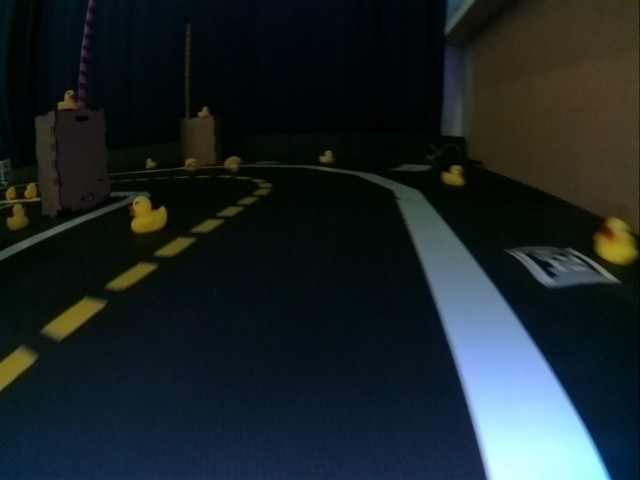Duckie: (595, 217, 634, 262), (130, 199, 167, 232), (442, 165, 465, 185), (7, 206, 26, 230), (58, 90, 76, 109), (224, 156, 240, 171), (320, 150, 334, 163), (26, 183, 37, 198), (185, 158, 195, 170), (6, 187, 15, 197), (198, 107, 209, 115), (145, 159, 154, 167)
QR code: (508, 247, 618, 287)
